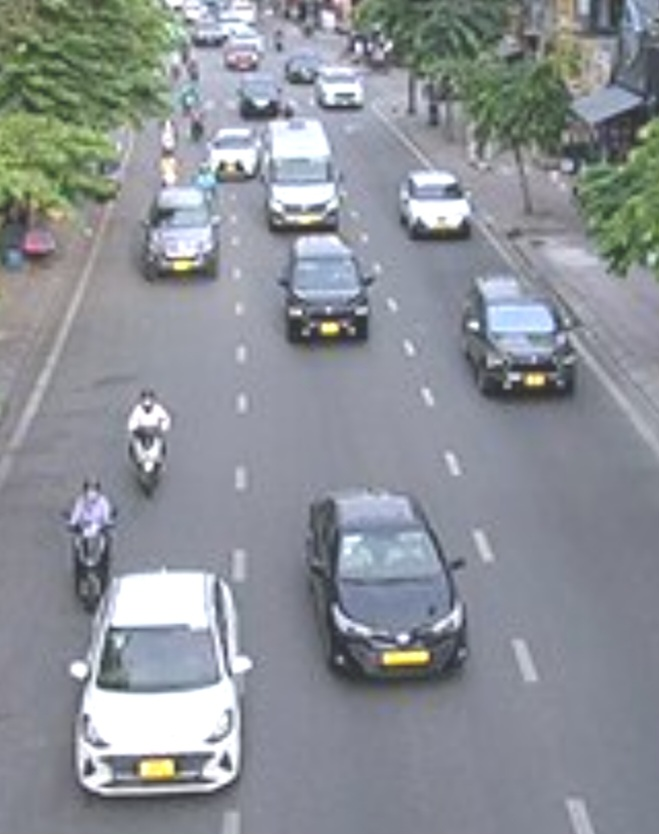car: (74, 567, 245, 798), (303, 485, 475, 682), (461, 276, 578, 401), (282, 236, 370, 344), (265, 121, 341, 231), (142, 188, 218, 285), (399, 170, 476, 241), (208, 127, 261, 182)
